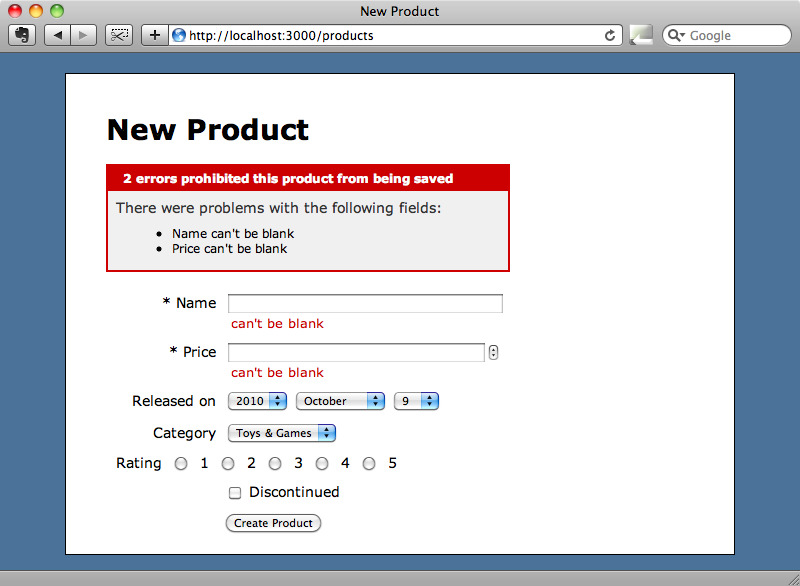error_message: (122, 172, 454, 188), (230, 316, 323, 330), (230, 366, 321, 380)
